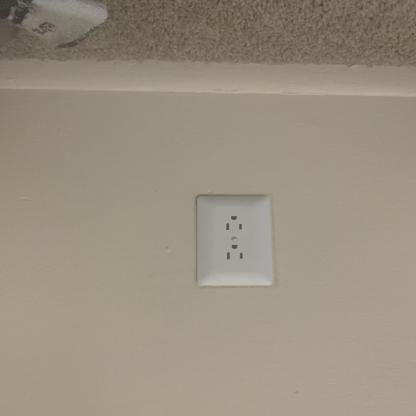OUTLET: (194, 196, 270, 286)
